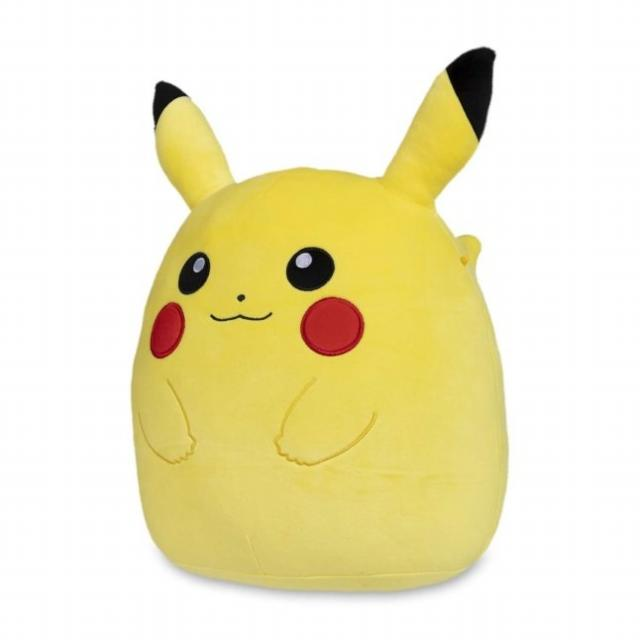Pikachu: (58, 60, 549, 488)
